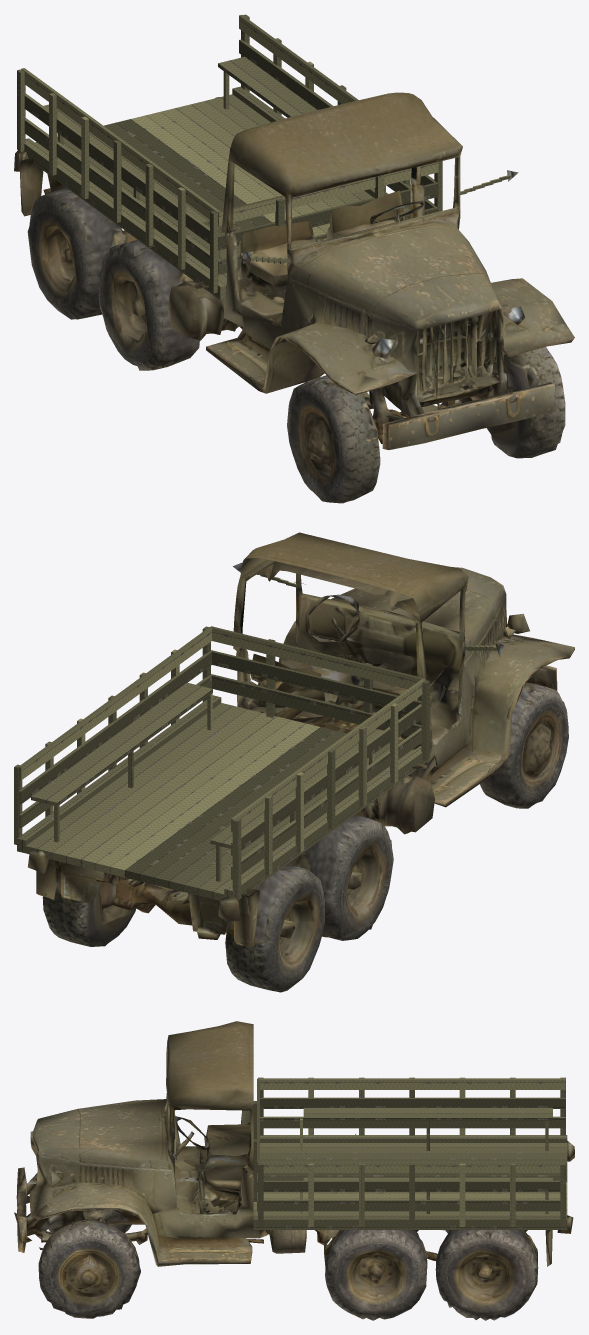
File: GMC_Truck_Open.fbx
3 renders of one model, top to bottom at view 1: azimuth 30°, elevation 25°; view 2: azimuth 150°, elevation 25°; view 3: azimuth 270°, elevation 25°, orthographic. The views are drawn at different scales.
Parts seen in each view (by area): view 1: GMC_Body, CargoRack; view 2: GMC_Body, CargoRack; view 3: GMC_Body, CargoRack.
Boxes of the visible parts, x1=… form: GMC_Body: x1=14, y1=92, x2=574, y2=503; CargoRack: x1=17, y1=14, x2=510, y2=299; GMC_Body: x1=28, y1=532, x2=574, y2=992; CargoRack: x1=14, y1=574, x2=497, y2=900; GMC_Body: x1=14, y1=1021, x2=574, y2=1320; CargoRack: x1=174, y1=1077, x2=567, y2=1229.
Size of the model in its own units: 309 by 310 by 690.
2 materials, 2 textured.
